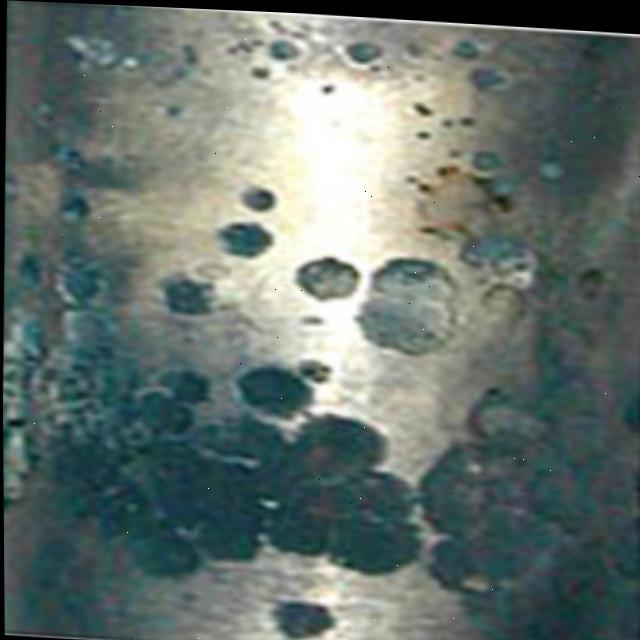Dry: (53, 166, 535, 599)
